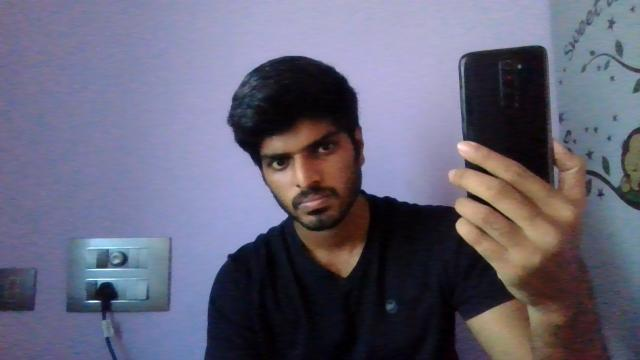PhoneUse: (454, 45, 556, 263)
SafeDriving: (306, 133, 341, 161), (264, 152, 294, 173)
